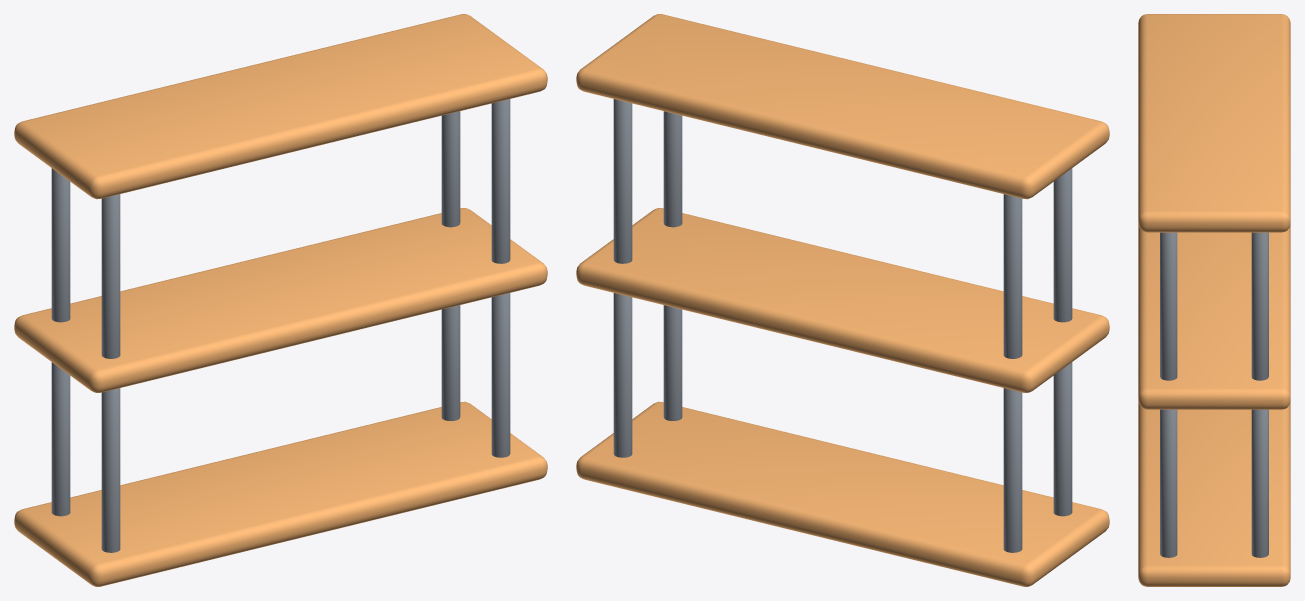
Rendered from estante_tubos_3_laranja.glb.
The picture shows the model from 3 angles, left to right: view 1: azimuth 30°, elevation 25°; view 2: azimuth 150°, elevation 25°; view 3: azimuth 270°, elevation 25°; orthographic projection. The views are drawn at different scales.
Parts seen in each view (by area): view 1: estante_tubos_3_laranja; view 2: estante_tubos_3_laranja; view 3: estante_tubos_3_laranja.
Boxes of the visible parts, left/top/right/bottom form: estante_tubos_3_laranja: left=14, top=14, right=547, bottom=586; estante_tubos_3_laranja: left=576, top=14, right=1109, bottom=586; estante_tubos_3_laranja: left=1138, top=14, right=1290, bottom=586.
Bounding box in the file's own units: 0.95 × 0.815 × 0.3.
Materials: 1 (1 with a texture image).
